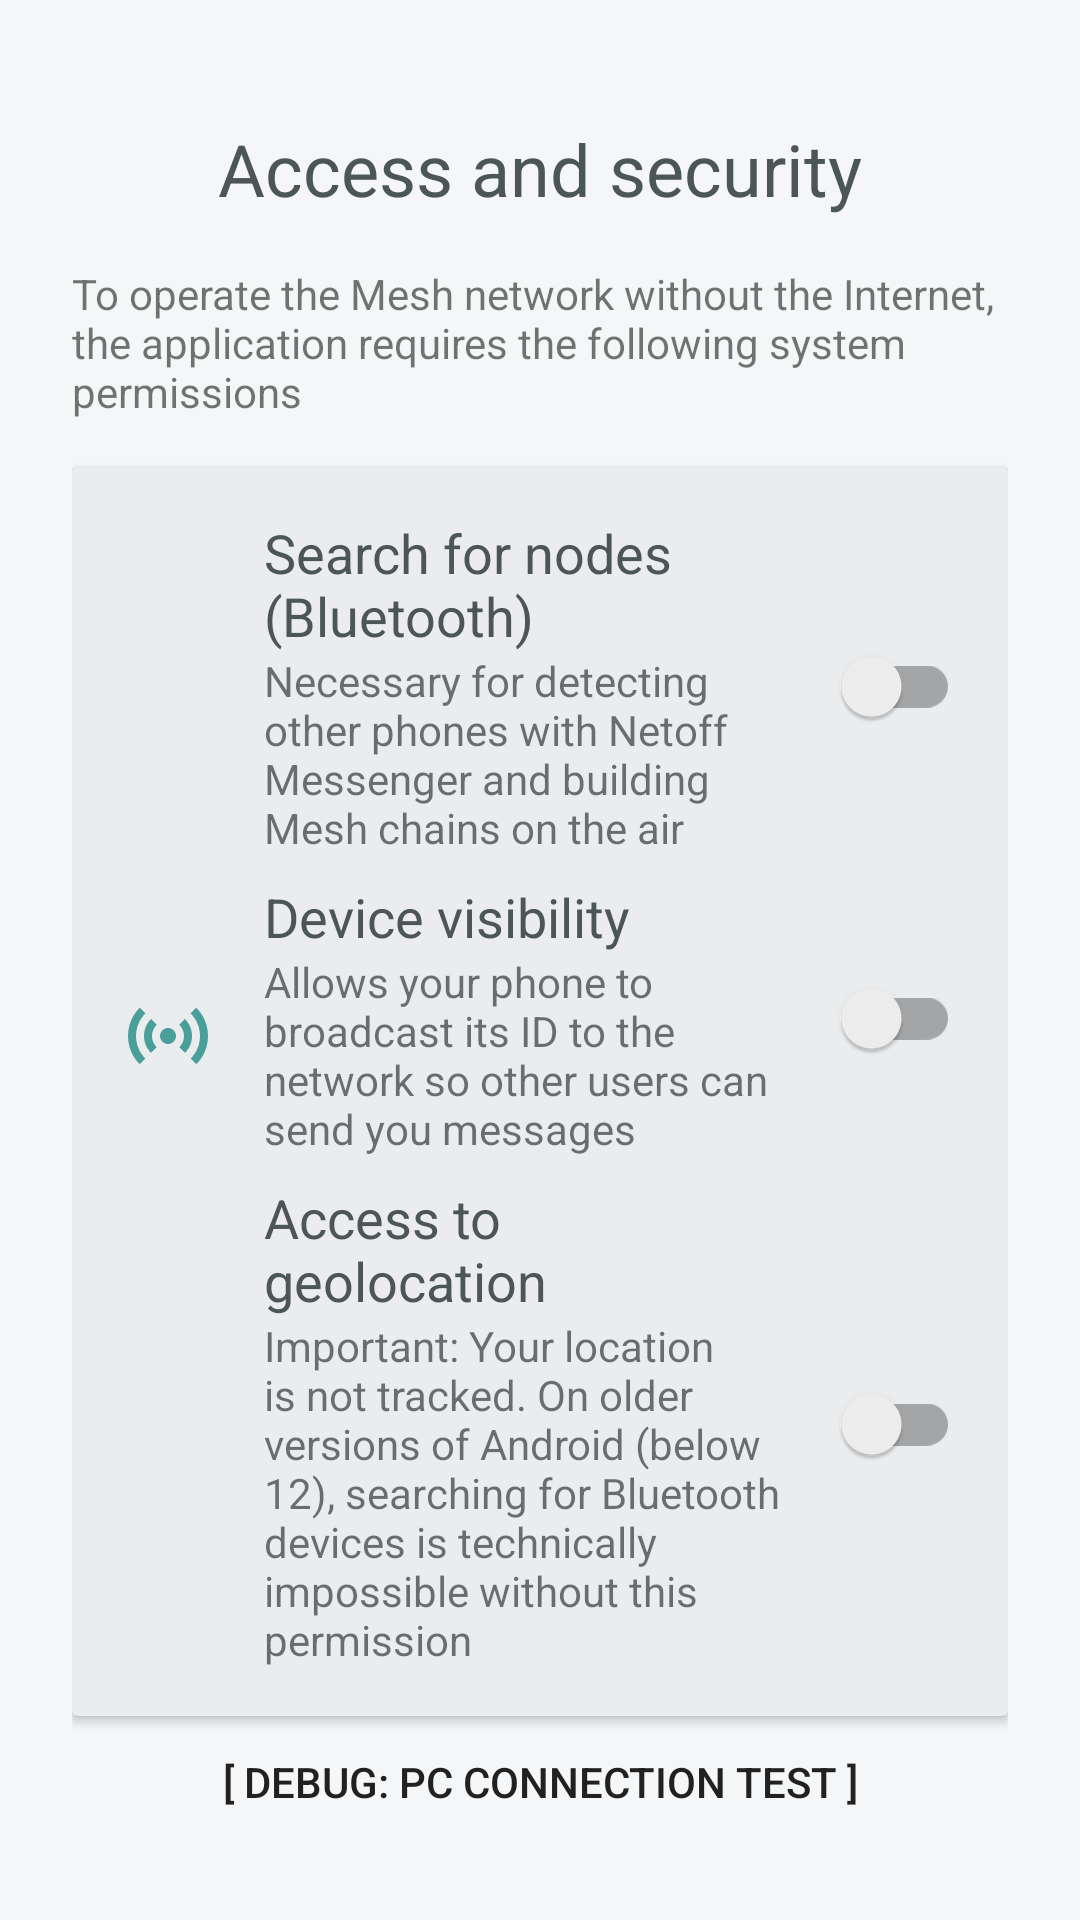

Point at icon controls on the screen. Image size 1080w x 1920h, points as (x=x, y=y).
sensors: (x=168, y=1036)
